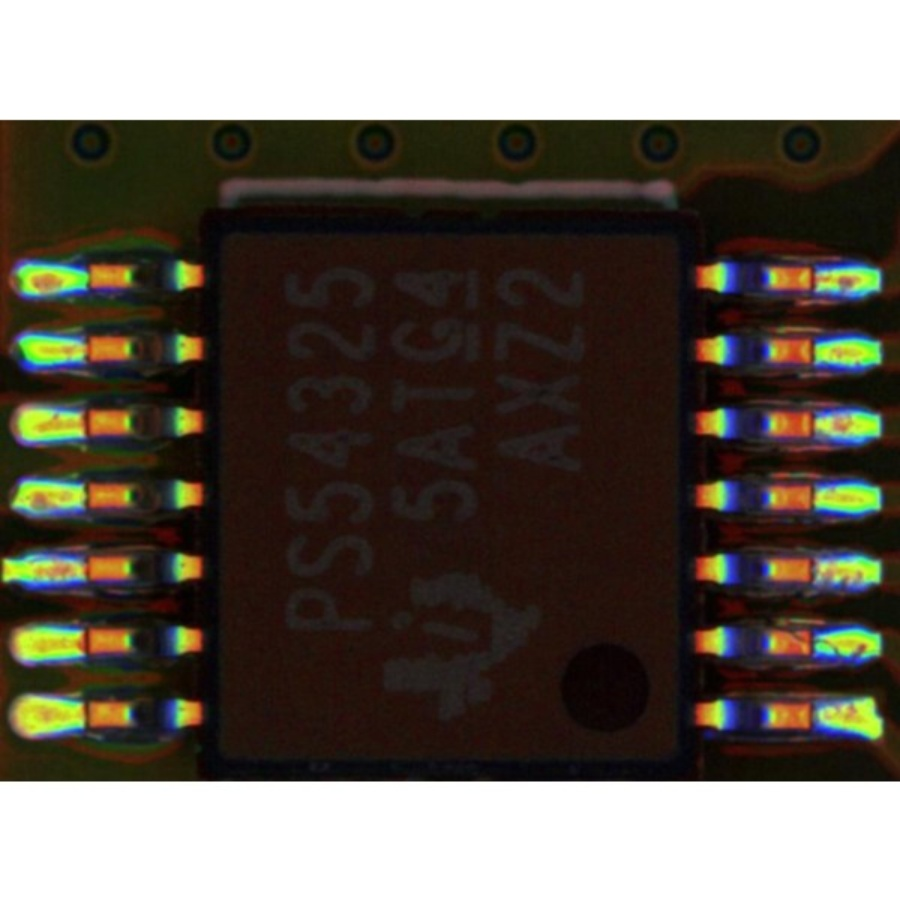Bad_podu: (54, 706, 113, 723), (56, 631, 105, 651), (60, 414, 107, 431), (60, 344, 114, 357), (797, 272, 840, 286)
